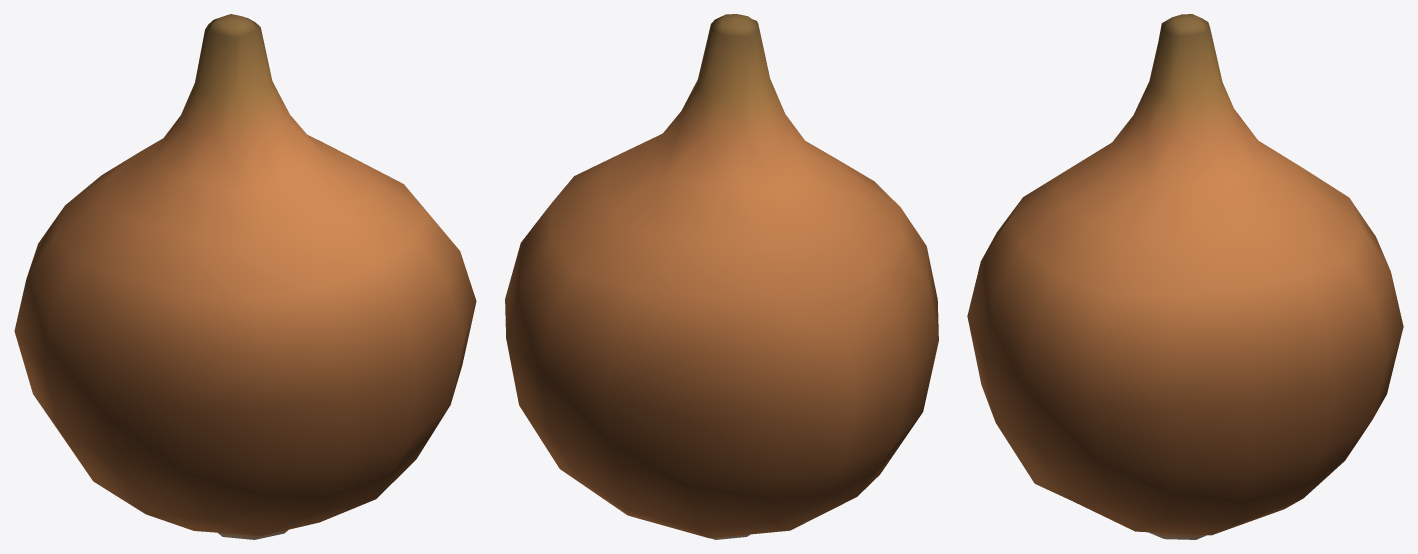
The model's file is consumables-vegetables-brownonion_v1.glb.
The picture shows the model from 3 angles, left to right: view 1: azimuth 30°, elevation 25°; view 2: azimuth 150°, elevation 25°; view 3: azimuth 270°, elevation 25°; orthographic projection. The views are drawn at different scales.
Visible parts, largest first — view 1: BrownOnion.001; view 2: BrownOnion.001; view 3: BrownOnion.001.
Part boxes in pixels (<box>): BrownOnion.001: <box>14,14,476,539</box>; BrownOnion.001: <box>505,14,938,539</box>; BrownOnion.001: <box>967,14,1403,539</box>.
Size of the model in its own units: 0.0854 by 0.1061 by 0.0841.
